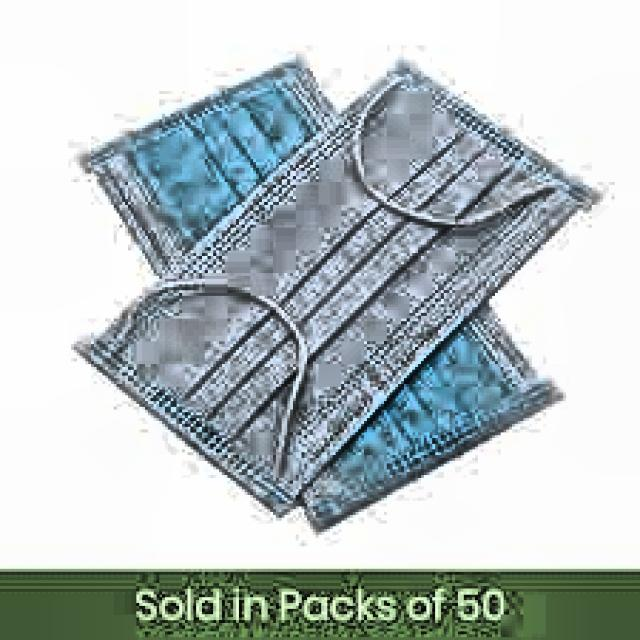trash: (83, 52, 570, 528)
